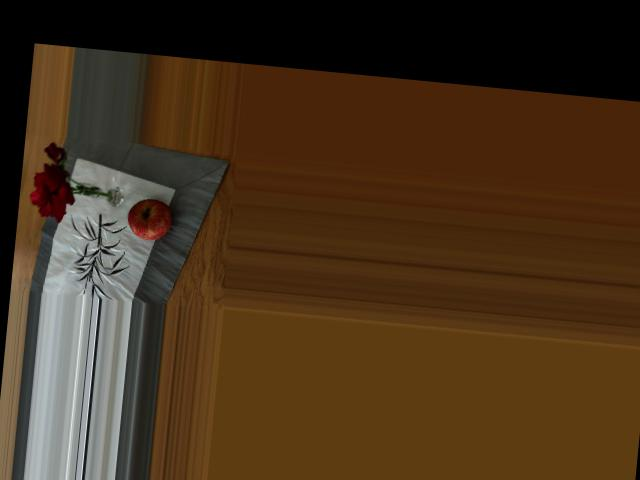apple: (123, 191, 179, 243)
